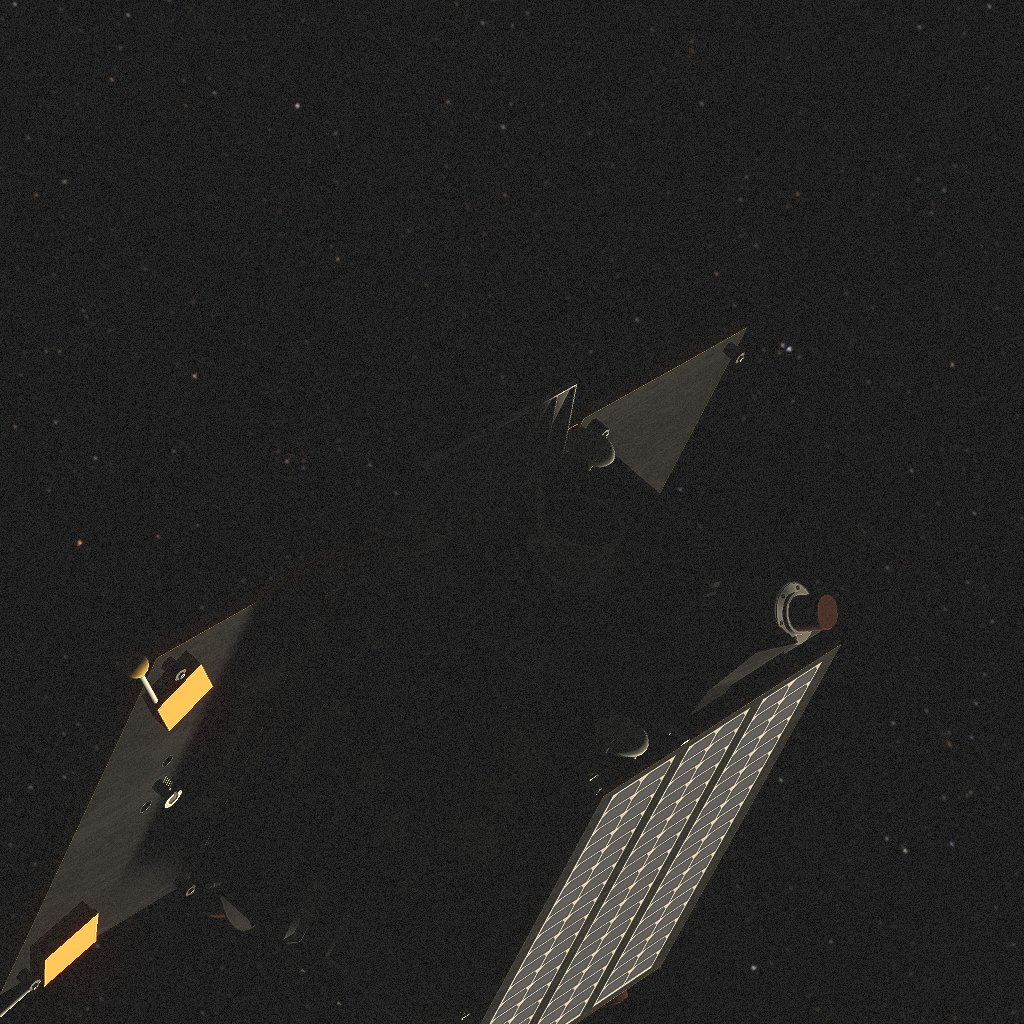proba_2: (0, 321, 841, 1024)
